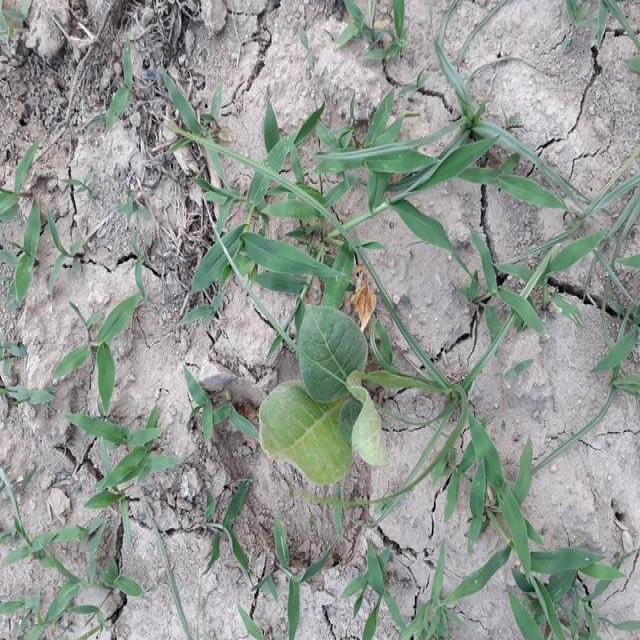crop: (258, 297, 392, 483)
